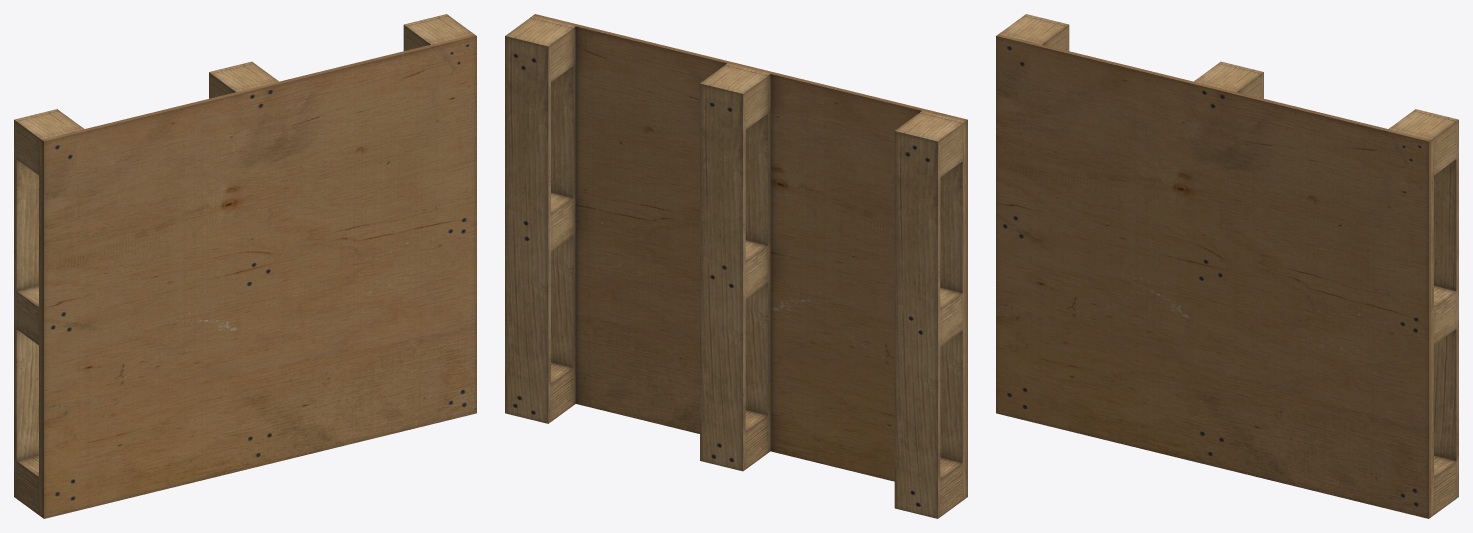
File: pallet_slatted.gltf
3 renders of one model, left to right at view 1: azimuth 30°, elevation 25°; view 2: azimuth 150°, elevation 25°; view 3: azimuth 330°, elevation 25°, orthographic.
Parts seen in each view (by area): view 1: pallet_slatted; view 2: pallet_slatted; view 3: pallet_slatted.
Part boxes in pixels (left/top/right/bottom): pallet_slatted: left=14, top=14, right=476, bottom=518; pallet_slatted: left=505, top=14, right=967, bottom=518; pallet_slatted: left=996, top=14, right=1458, bottom=518.
Bounding box in the file's own units: 1.2 × 1 × 0.144.
Materials: 1 (1 with a texture image).
